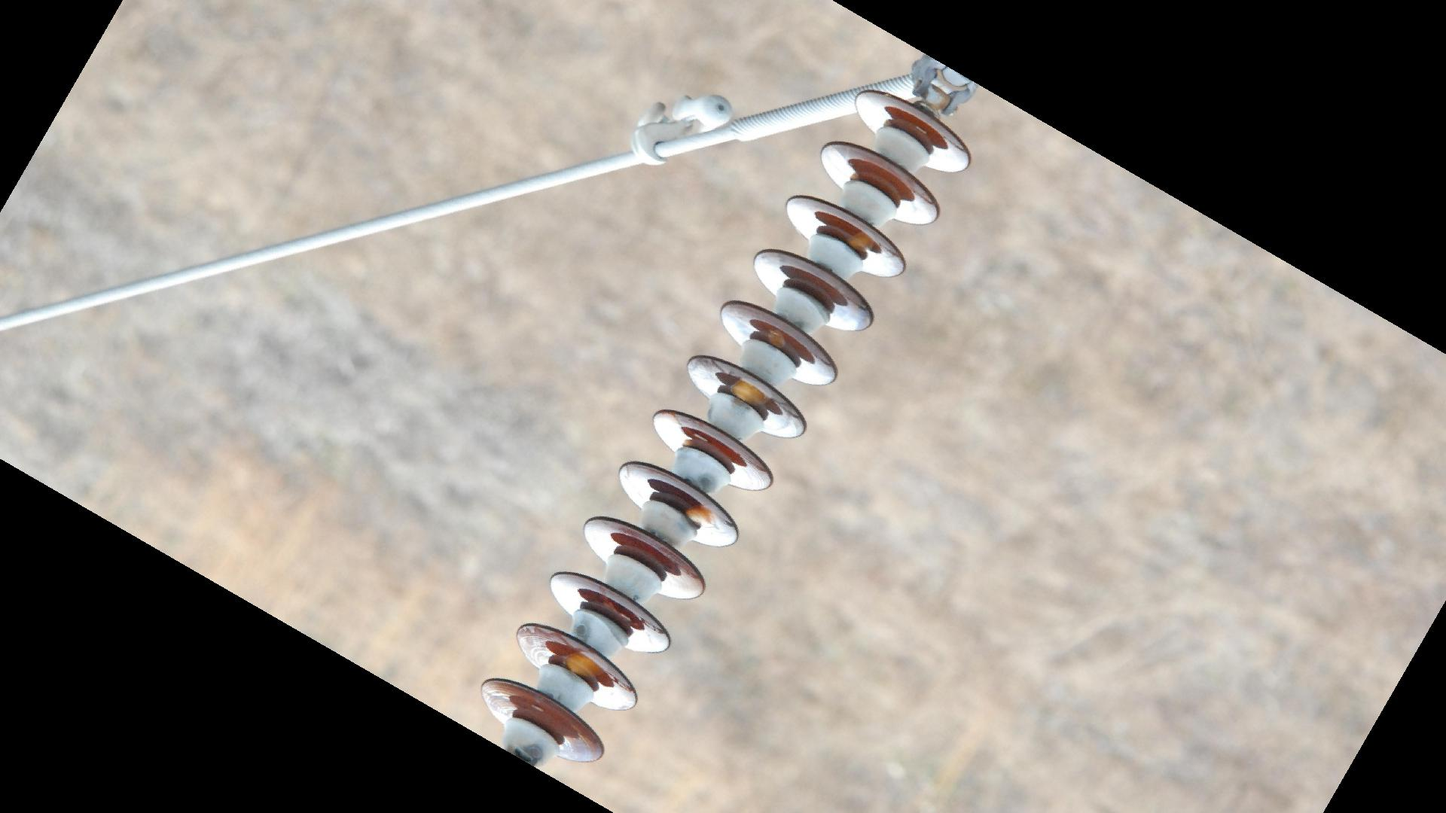insulator: (474, 84, 978, 772)
insulator_flashover: (563, 649, 613, 683), (728, 374, 773, 408), (683, 502, 726, 528), (846, 227, 877, 254), (767, 328, 789, 349)
